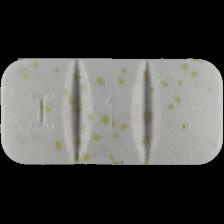23155-143: (0, 0, 224, 224)
